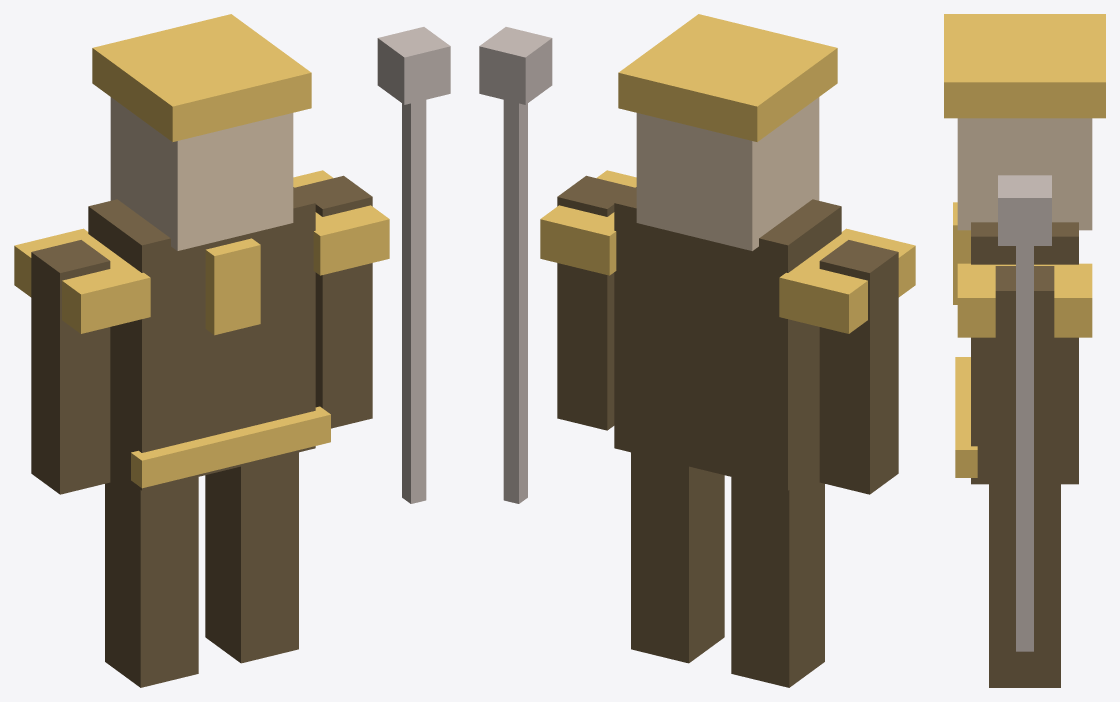
Rendered from 01_kael_gearmantle_diver_near.glb.
3 views of the same model, side by side, from view 1: azimuth 30°, elevation 25°; view 2: azimuth 150°, elevation 25°; view 3: azimuth 270°, elevation 25° (orthographic).
Parts seen in each view (by area): view 1: Kael Gearmantle, Diver near; view 2: Kael Gearmantle, Diver near; view 3: Kael Gearmantle, Diver near.
Boxes of the visible parts, x1=… form: Kael Gearmantle, Diver near: x1=14, y1=14, x2=450, y2=687; Kael Gearmantle, Diver near: x1=479, y1=14, x2=915, y2=687; Kael Gearmantle, Diver near: x1=944, y1=14, x2=1105, y2=687.
Bounding box in the file's own units: 1 × 1.45 × 0.3553.
